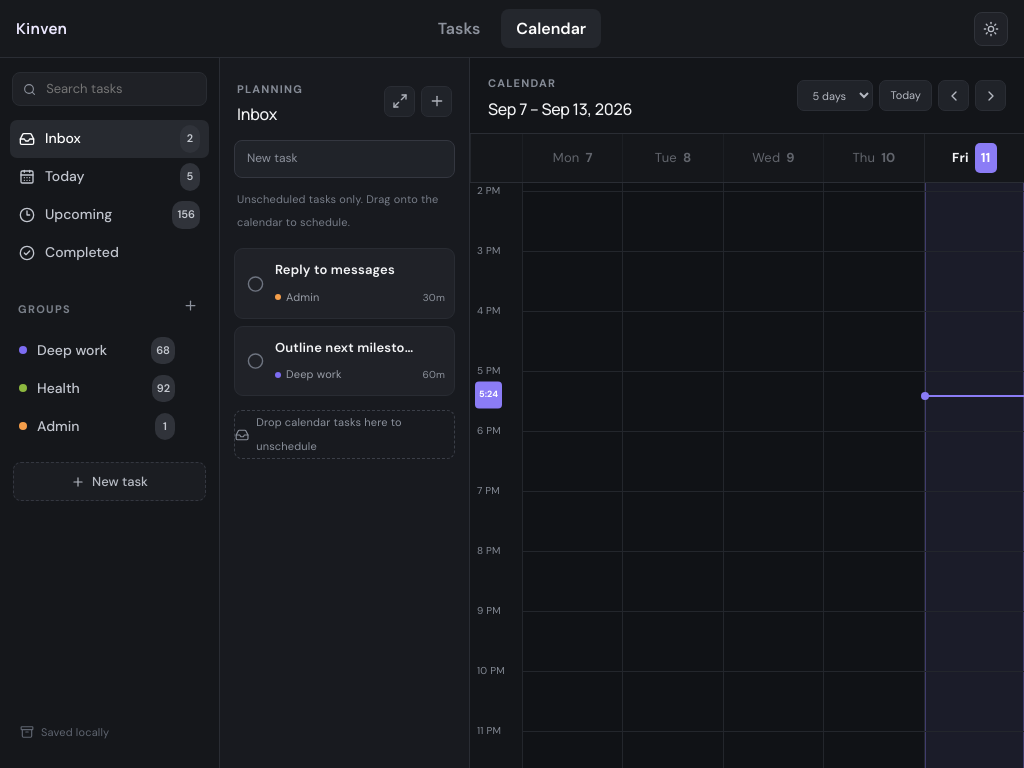
Test: subtask editor regressions › adds, edits, completes, and reopens a subtask
The width and height of the screenshot is (1024, 768).
(page scrolled)
Click the text "Reply to messages".
click(344, 270)  # box [275,258,414,282]
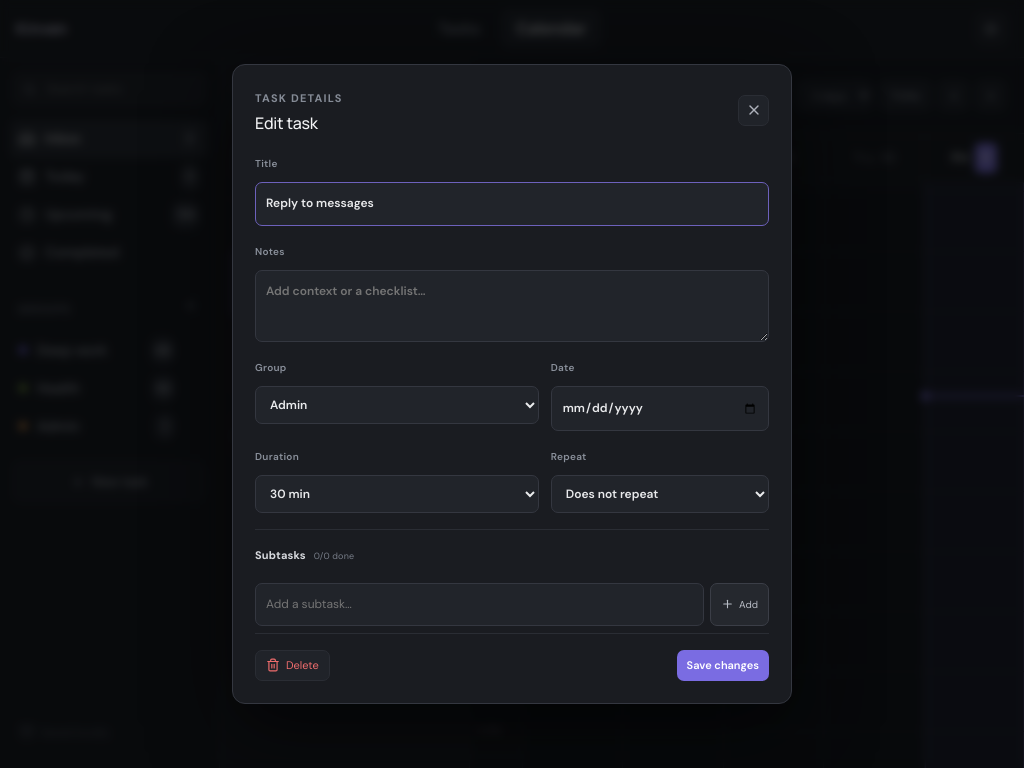
Type "Review draft" into the field named "Add subtask".
click(480, 604); type("Review draft")  # box [255,583,704,626]
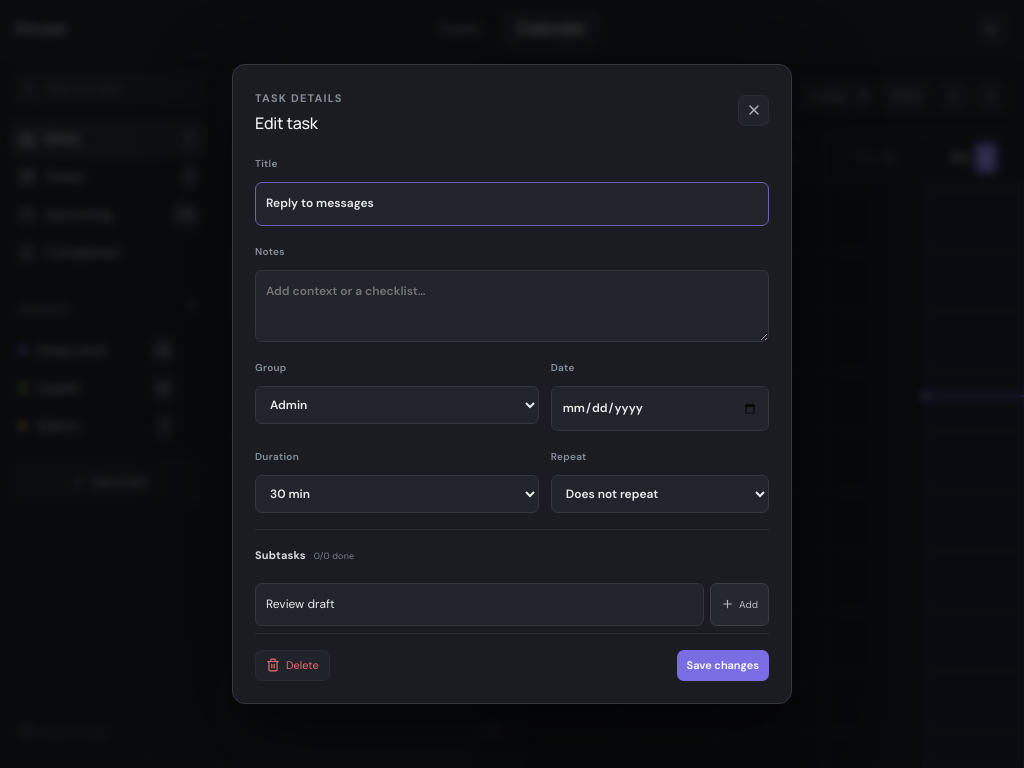
Click the button "Add".
click(740, 604)  # box [710,583,769,626]
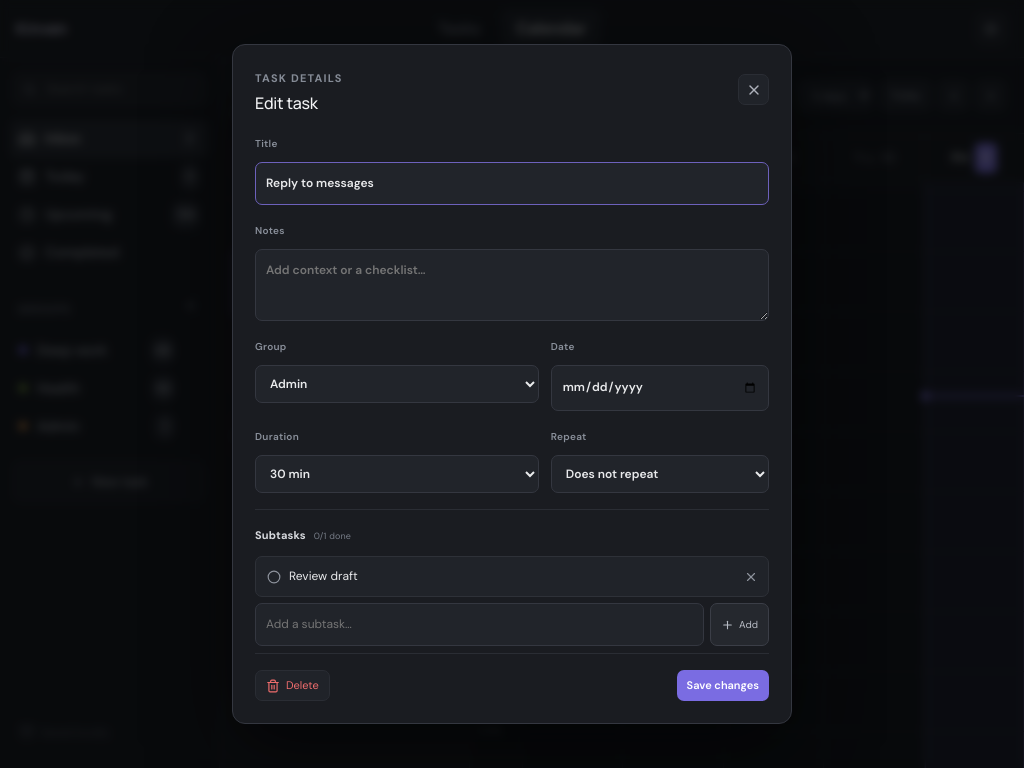
Expected: the field named "Subtask title" holds "Review draft"
Replace the text in the field named "Subtask title" with "Review final draft" at [512, 577], box [286,559,738,594]
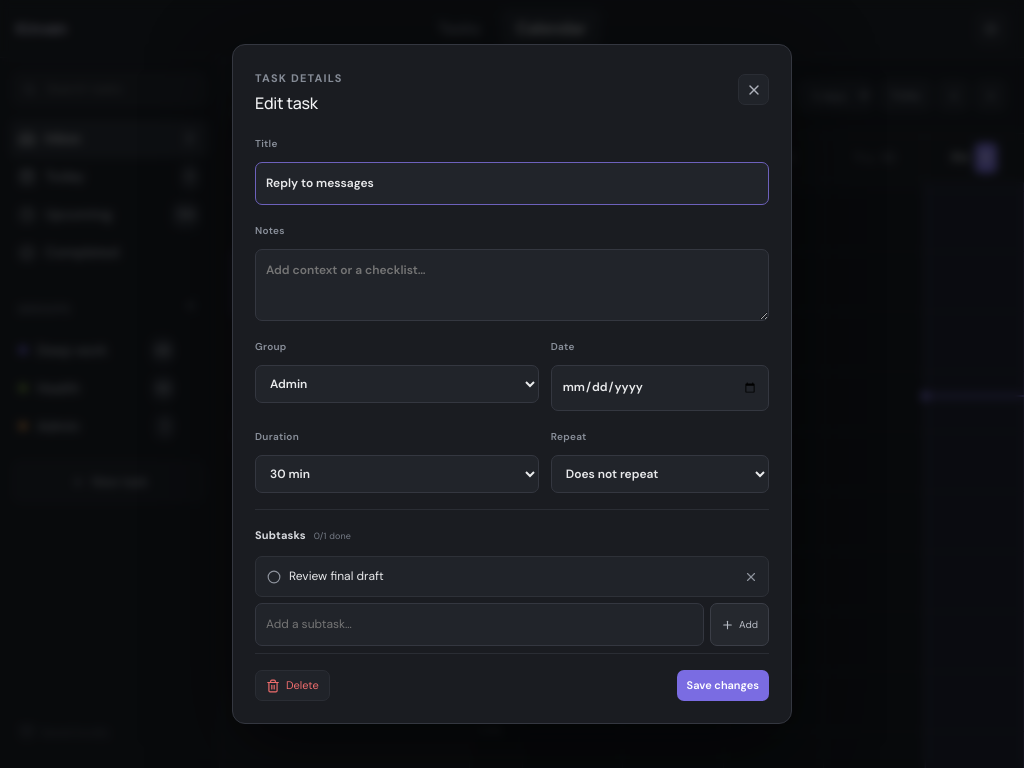
Click the button named "Mark Review final draft complete".
click(274, 577)  # box [261,562,286,592]
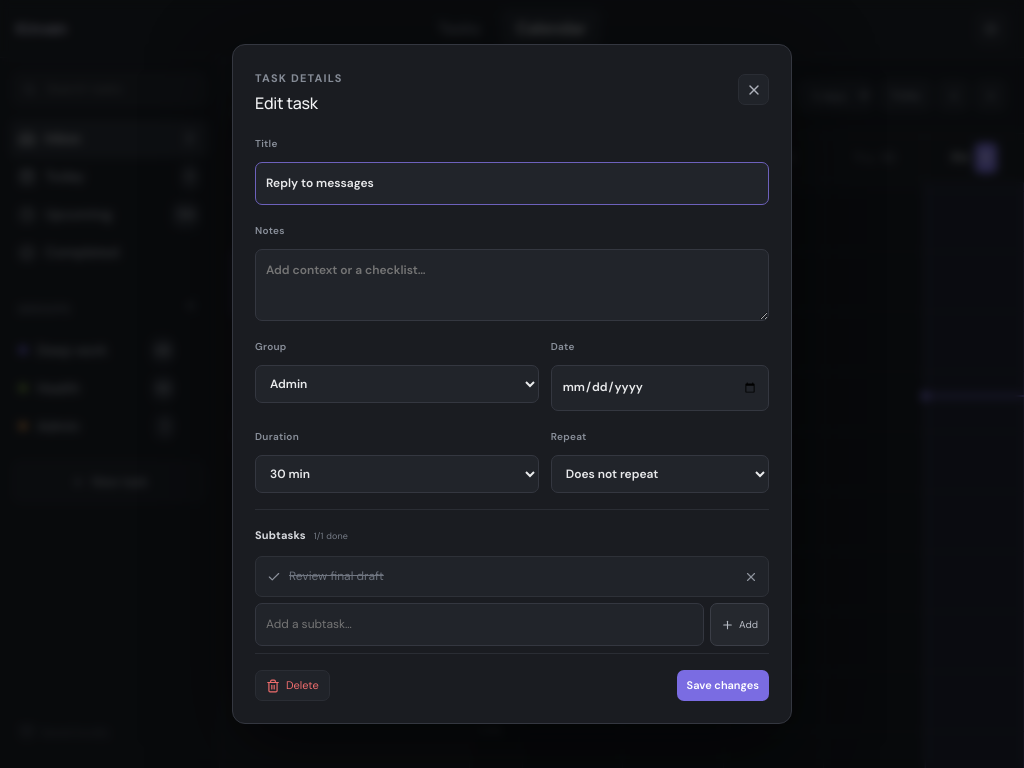
Expected: the button named "Mark Review final draft incomplete" is shown
Click the button named "Mark Review final draft incomplete".
click(274, 577)  # box [261,562,286,592]
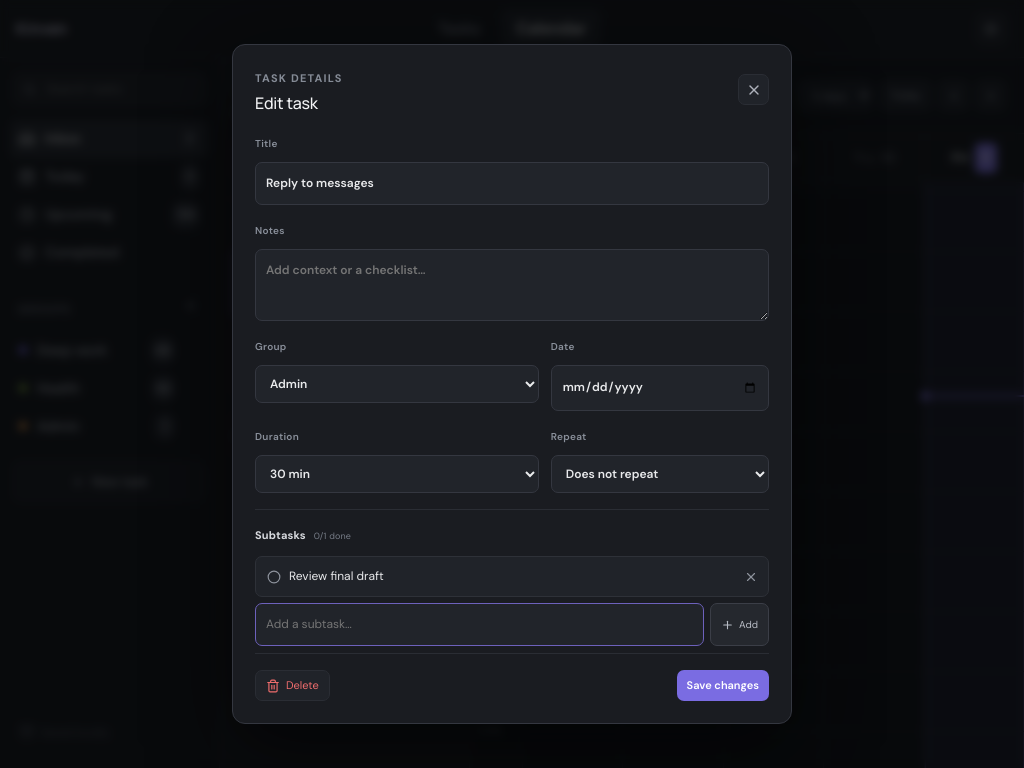
Expected: the button named "Mark Review final draft complete" is shown, [261,562,286,592]
